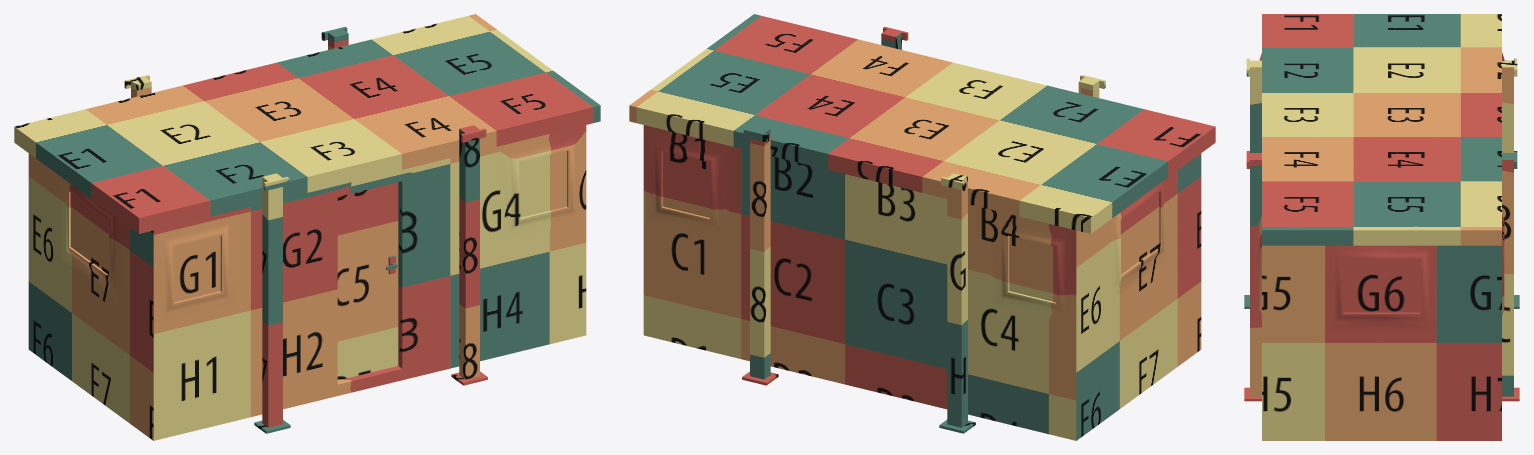
The model's file is portable_office.fbx.
The picture shows the model from 3 angles, left to right: view 1: azimuth 30°, elevation 25°; view 2: azimuth 150°, elevation 25°; view 3: azimuth 270°, elevation 25°; orthographic projection. The views are drawn at different scales.
Visible parts, largest first — view 1: portable_office, door2, support_bar, support_bar1; view 2: portable_office, support_bar2, support_bar3; view 3: portable_office, support_bar1, support_bar2, support_bar3, support_bar.
Boxes of the visible parts, bbox=[...] form: portable_office: bbox=[14, 14, 600, 440]; door2: bbox=[337, 182, 398, 380]; support_bar: bbox=[254, 173, 290, 433]; support_bar1: bbox=[451, 125, 487, 385]; portable_office: bbox=[629, 14, 1215, 440]; support_bar2: bbox=[742, 125, 778, 385]; support_bar3: bbox=[939, 173, 975, 433]; portable_office: bbox=[1259, 14, 1504, 440]; support_bar1: bbox=[1244, 151, 1261, 401]; support_bar2: bbox=[1502, 151, 1519, 401]; support_bar3: bbox=[1502, 58, 1519, 308]; support_bar: bbox=[1244, 58, 1261, 308].
Size of the model in its own units: 6.4 by 3.3 by 3.44.
Materials: 1 (1 with a texture image).
